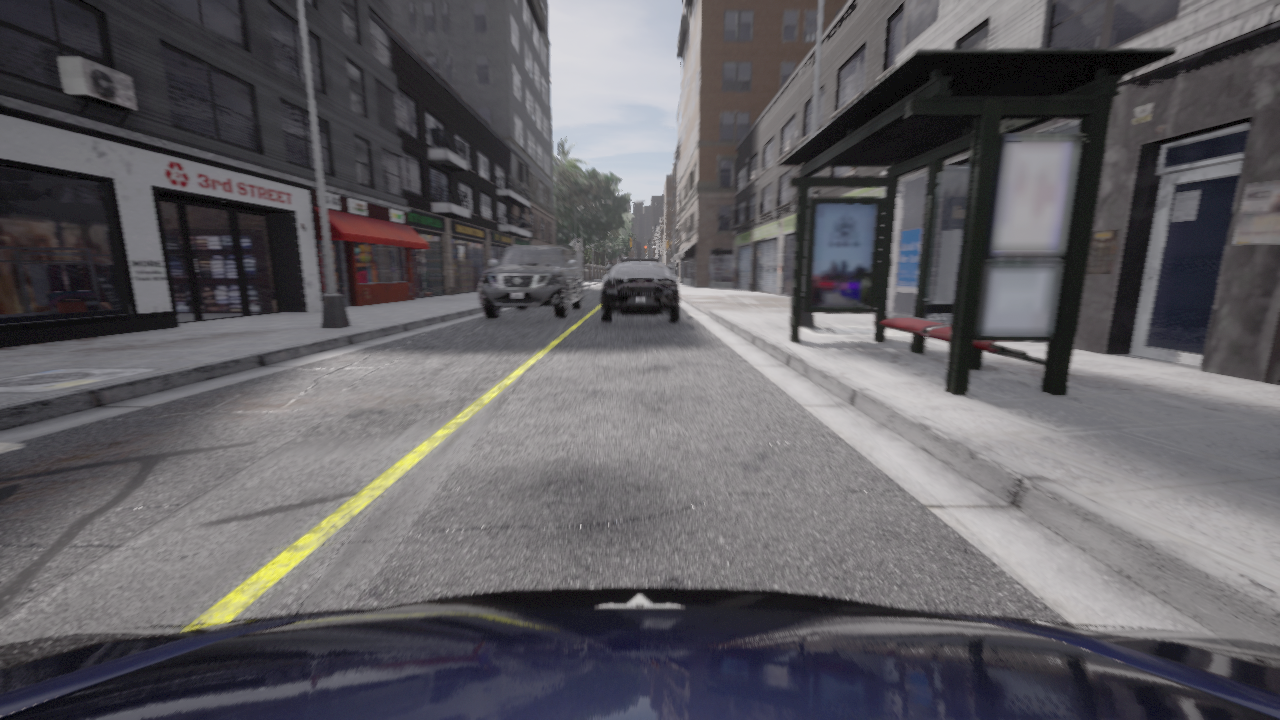cyclist: (0, 588, 1279, 719), (479, 245, 582, 318), (601, 257, 679, 322)
